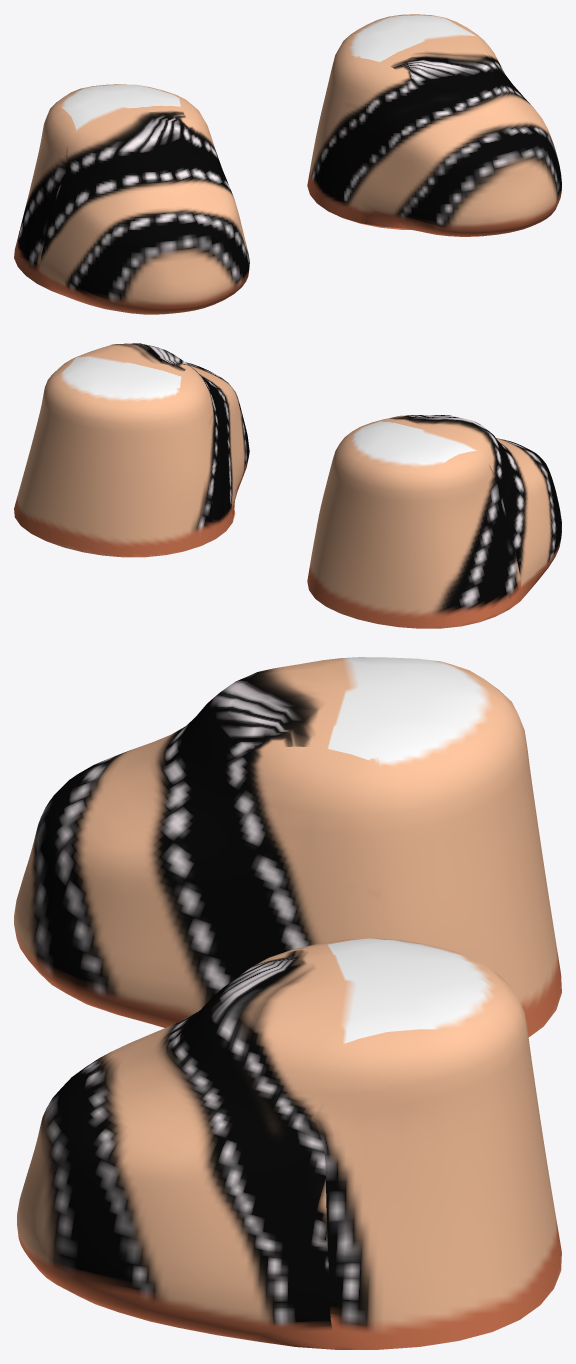
File: Capal.fbx
3 renders of one model, top to bottom at view 1: azimuth 30°, elevation 25°; view 2: azimuth 150°, elevation 25°; view 3: azimuth 270°, elevation 25°, orthographic. The views are drawn at different scales.
Visible parts, largest first — view 1: Capal; view 2: Capal; view 3: Capal.
Boxes of the visible parts, left/top/right/bottom form: Capal: left=14, top=14, right=561, bottom=314; Capal: left=14, top=343, right=561, bottom=628; Capal: left=14, top=657, right=561, bottom=1349.
Bounding box in the file's own units: 200 × 59.71 × 101.
1 material, 1 textured.
